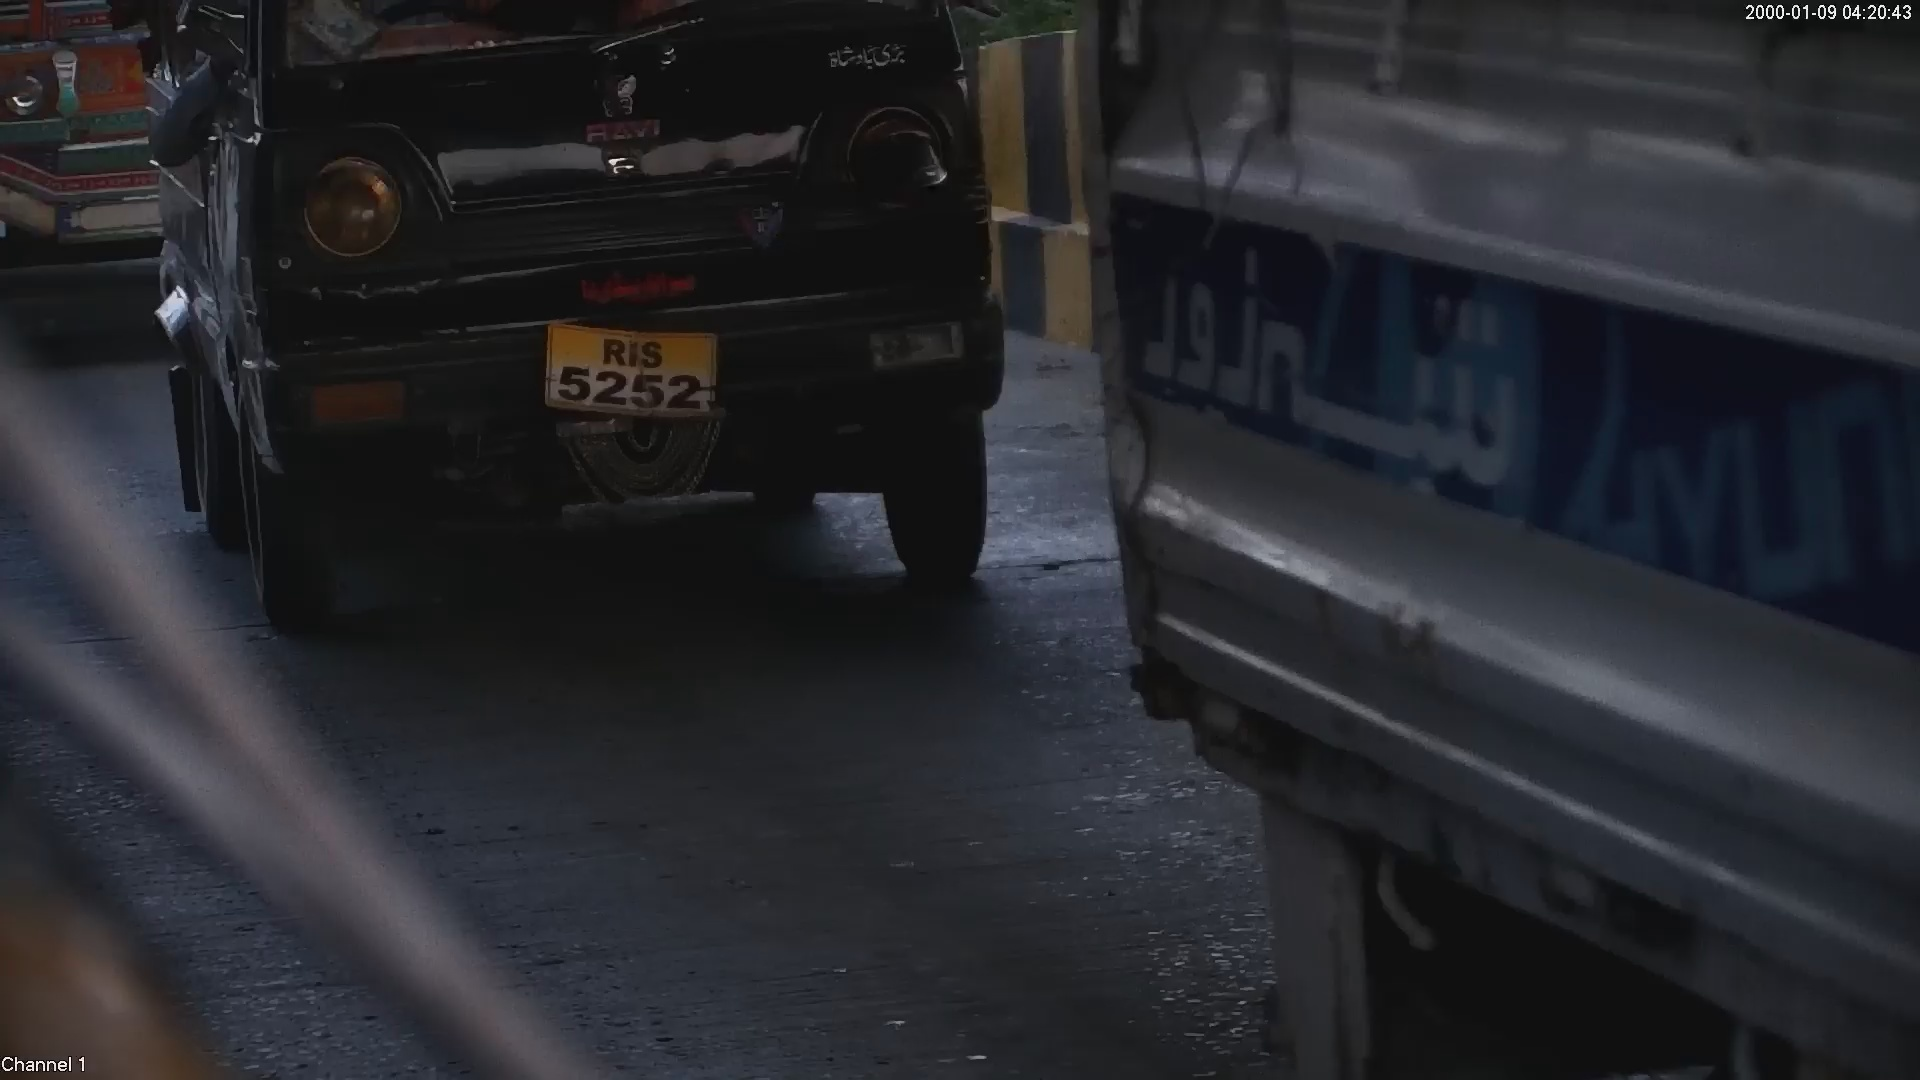Number_Plate: (523, 305, 737, 429)
Undefined: (1130, 220, 1821, 518), (563, 418, 728, 512), (558, 73, 678, 170), (552, 255, 708, 303), (810, 29, 928, 81)
